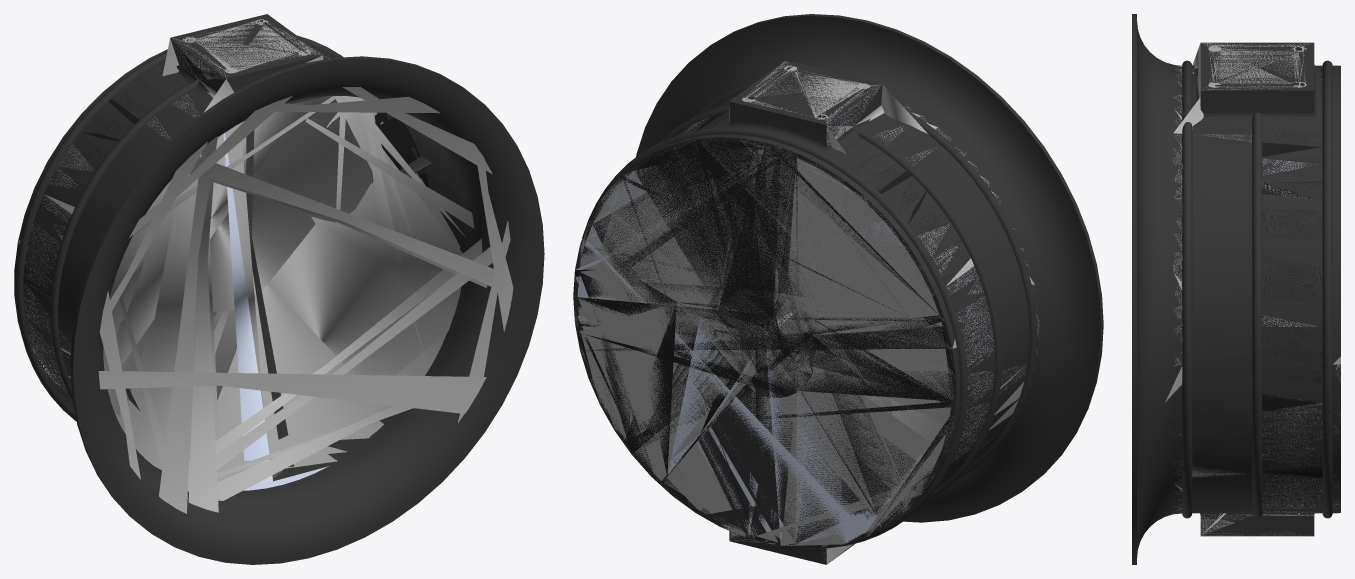
File: gimbal2_link.dae
3 views of the same model, side by side, from view 1: azimuth 30°, elevation 25°; view 2: azimuth 150°, elevation 25°; view 3: azimuth 270°, elevation 25° (orthographic).
Parts seen in each view (by area): view 1: node17, node0, node19, node18, node9, node5; view 2: node0, node17, node1, node18, node5, node19, node9, node13; view 3: node0, node17, node13, node5, node9, node18, node19.
Part boxes in pixels (x1,y1,x2,y2): node17: [18, 19, 513, 513]; node0: [14, 14, 544, 564]; node19: [23, 40, 328, 490]; node18: [23, 40, 425, 478]; node9: [45, 58, 428, 409]; node5: [137, 58, 426, 178]; node0: [573, 14, 1103, 564]; node17: [573, 61, 1039, 564]; node1: [574, 138, 955, 548]; node18: [577, 107, 1010, 547]; node5: [573, 112, 955, 539]; node19: [575, 86, 994, 546]; node9: [578, 113, 968, 488]; node13: [579, 137, 994, 480]; node0: [1132, 14, 1340, 564]; node17: [1165, 43, 1340, 536]; node13: [1262, 89, 1322, 480]; node5: [1262, 74, 1322, 383]; node9: [1262, 69, 1322, 410]; node18: [1192, 72, 1318, 513]; node19: [1247, 79, 1321, 515].
Bounding box in the file's own units: 0.165 × 0.165 × 0.0625.
